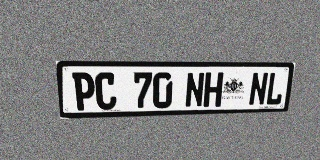0: (153, 72, 173, 108)
7: (132, 72, 152, 109)
C: (95, 72, 117, 110)
H: (203, 72, 224, 107)
L: (265, 72, 286, 105)
N: (185, 72, 205, 108), (248, 72, 269, 106)
P: (72, 72, 95, 111)
